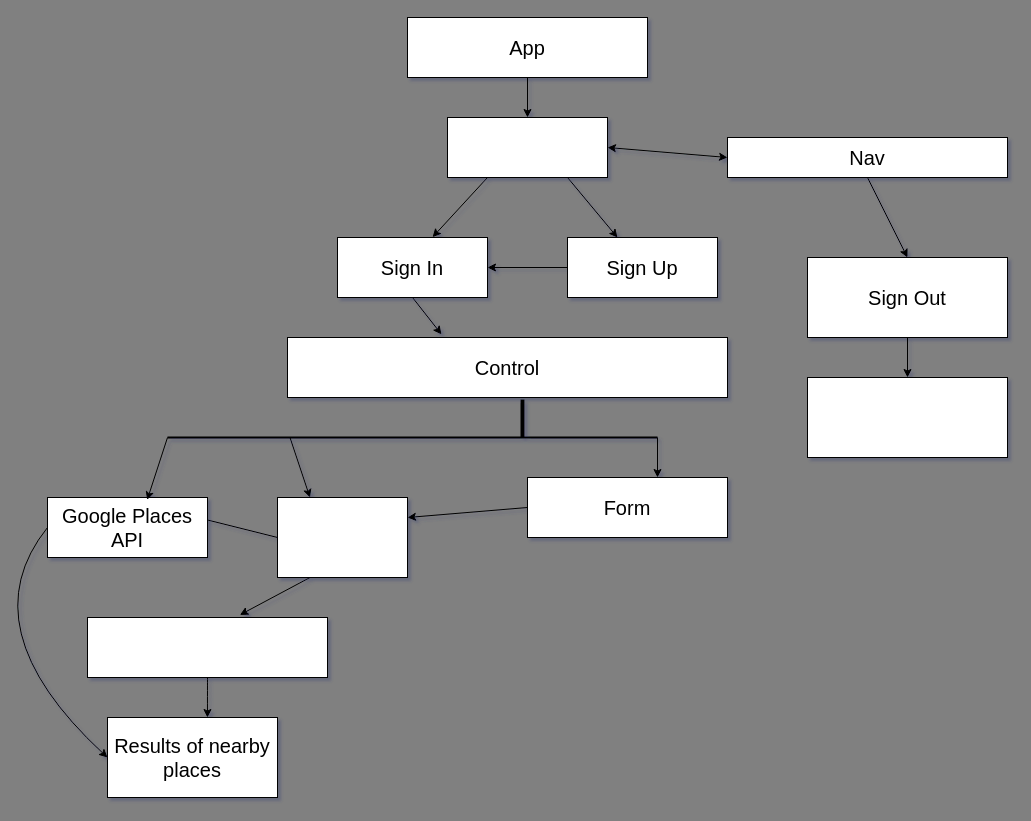
The diagram is 1031 pixels wide and 821 high, and some of its shapes have lost their labels. Each missing label, with the centre of its shape:
"Geocoding API" goes at point (342, 537).
"Github" goes at point (907, 417).
"Result Map Location" goes at point (207, 647).
"Splash Page" goes at point (527, 147).
